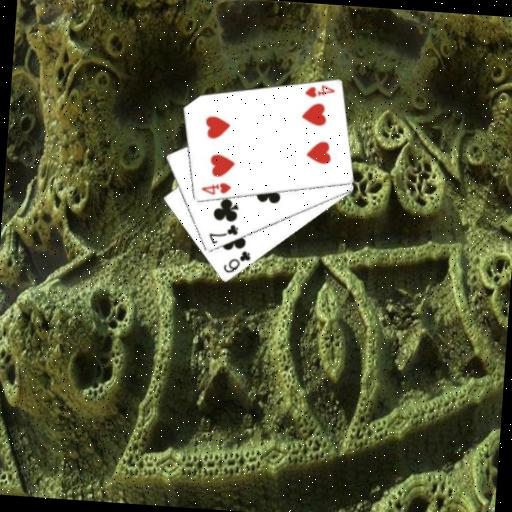4H: (198, 178, 233, 198), (301, 81, 336, 101)
6C: (220, 247, 253, 277)
7C: (205, 220, 240, 248)
